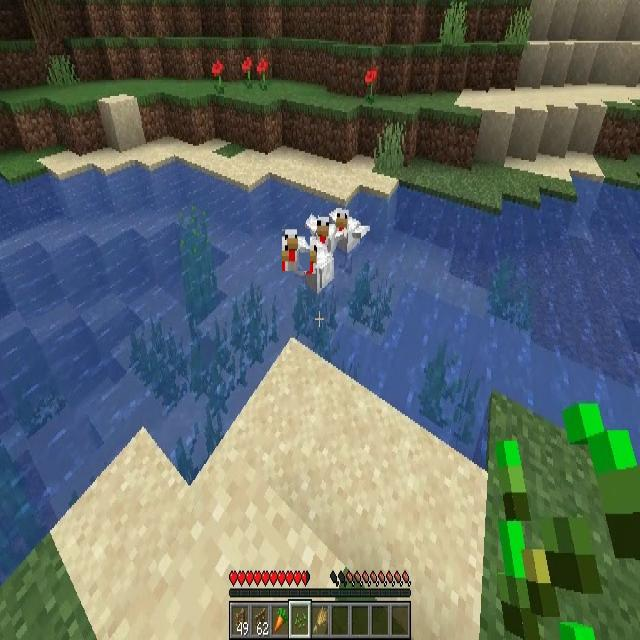duck: (300, 237, 332, 291), (336, 208, 371, 250), (282, 229, 310, 271), (308, 214, 334, 252)
